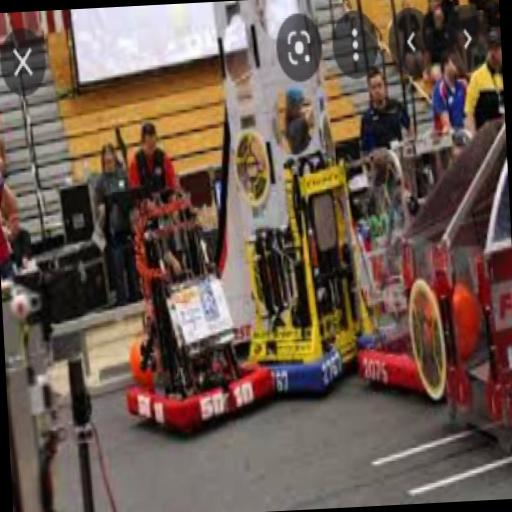robot: (113, 178, 277, 432), (238, 150, 378, 396), (346, 145, 450, 400)
